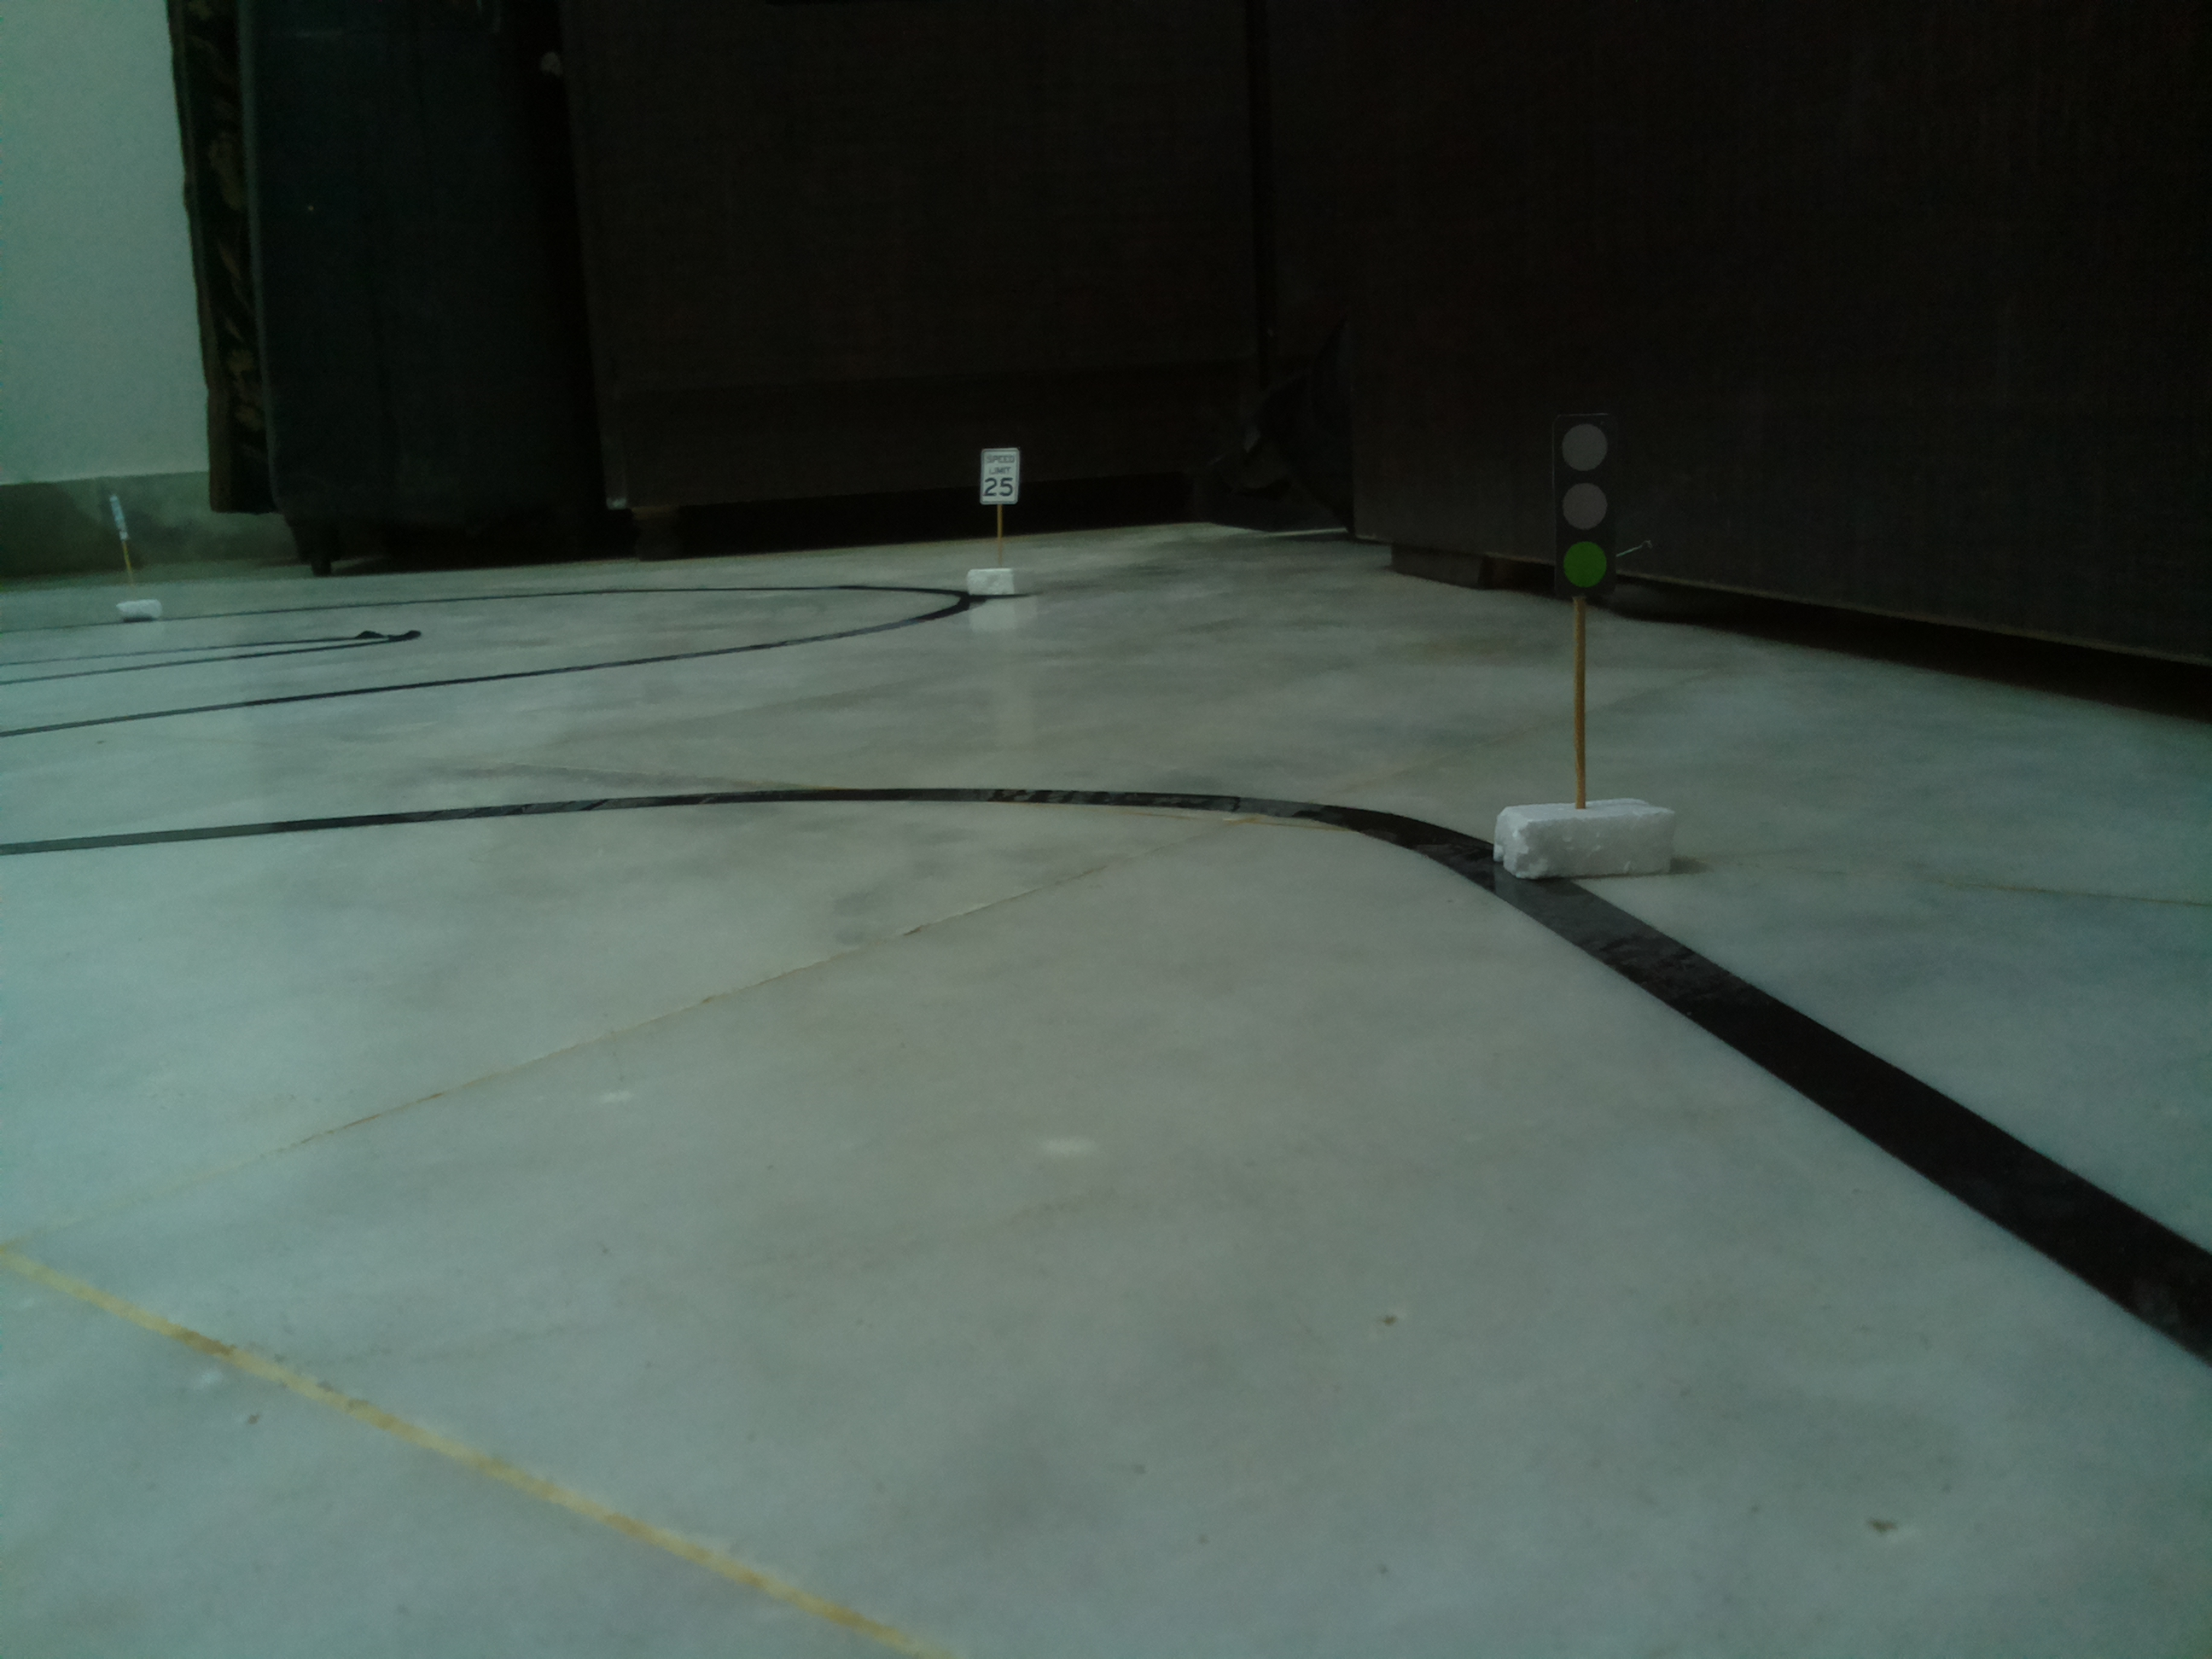Green traffic light: (1548, 411, 1622, 603)
Speed limit 25: (979, 444, 1021, 505)
